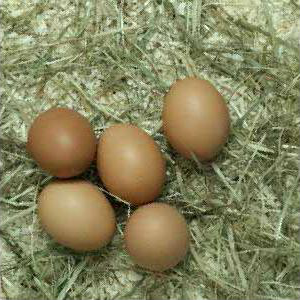egg: (163, 78, 231, 163), (36, 182, 116, 251), (98, 124, 165, 205), (28, 108, 98, 179), (124, 204, 190, 272)
